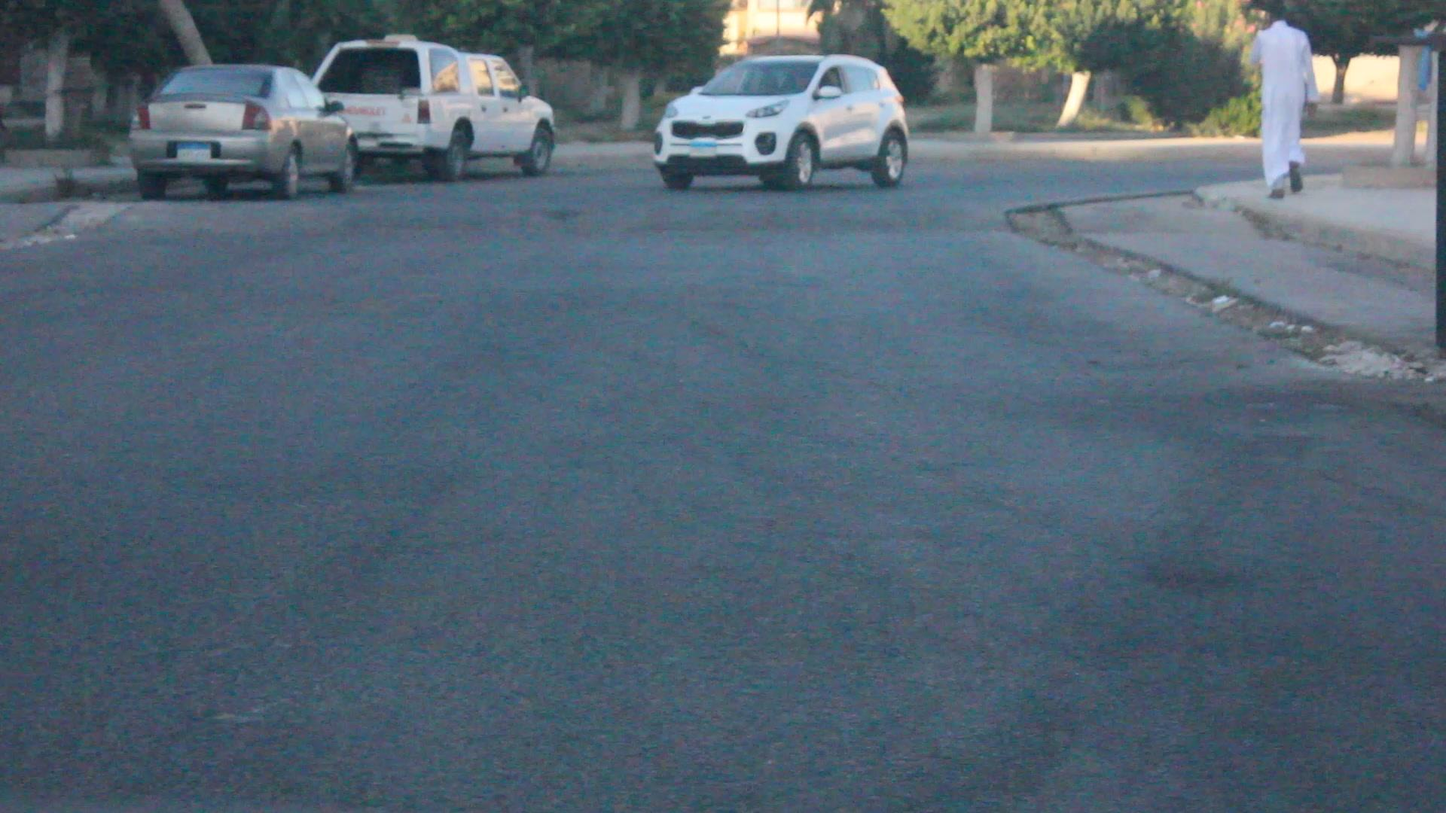Bump: (34, 190, 1038, 233)
